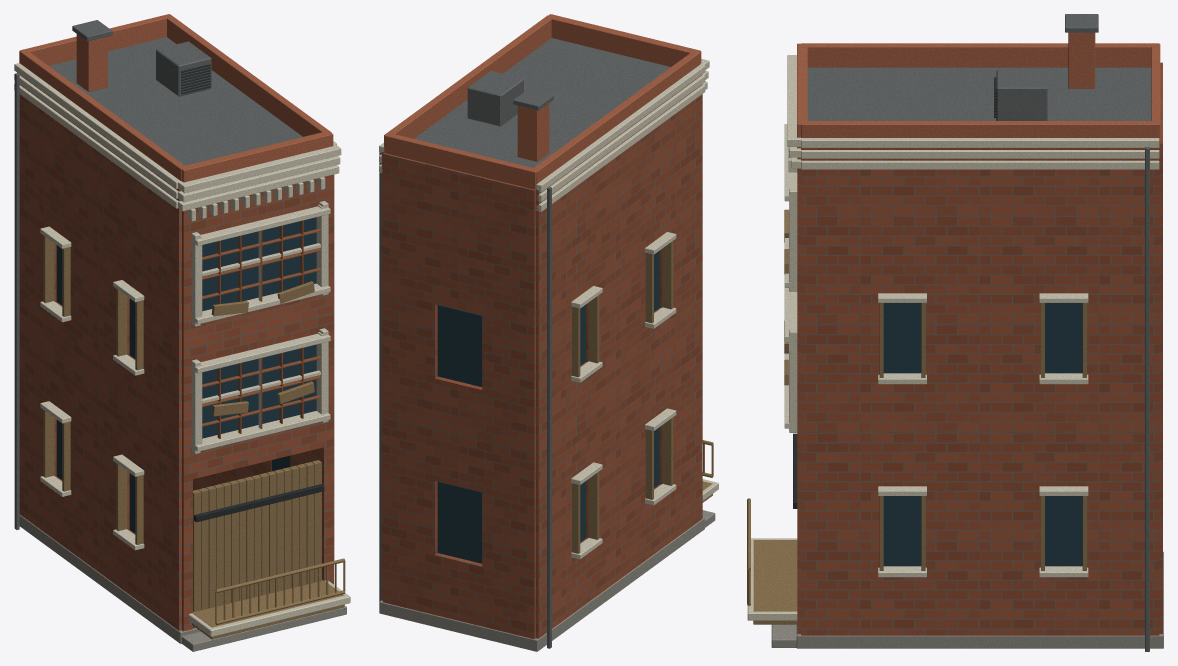
File: WRHS2_lod1.glb
The picture shows the model from 3 angles, left to right: view 1: azimuth 30°, elevation 25°; view 2: azimuth 150°, elevation 25°; view 3: azimuth 270°, elevation 25°; orthographic projection. The views are drawn at different scales.
Visible parts, largest first — view 1: WRHS2_LOD1; view 2: WRHS2_LOD1; view 3: WRHS2_LOD1.
Boxes of the visible parts, x1,y1,x2,y2 form: WRHS2_LOD1: (14, 14, 350, 651); WRHS2_LOD1: (379, 14, 718, 651); WRHS2_LOD1: (747, 14, 1163, 651).
Bounding box in the file's own units: 3.71 × 10.45 × 6.98.
Materials: 10 (8 with a texture image).
